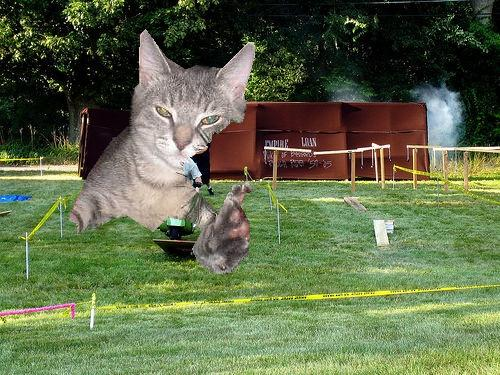tampered: (70, 30, 255, 274)
